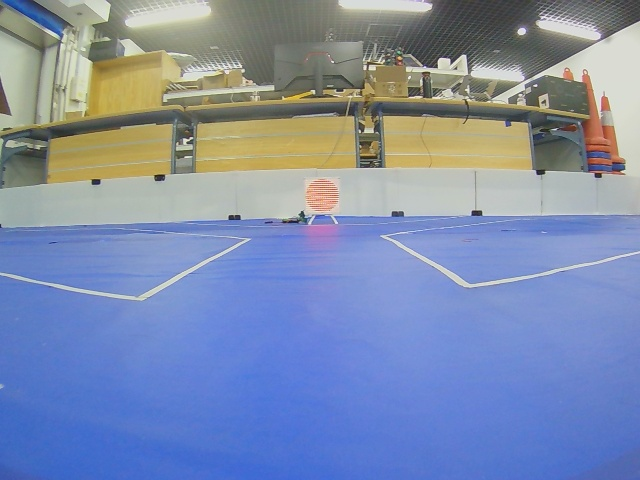red: (305, 178, 340, 214)
